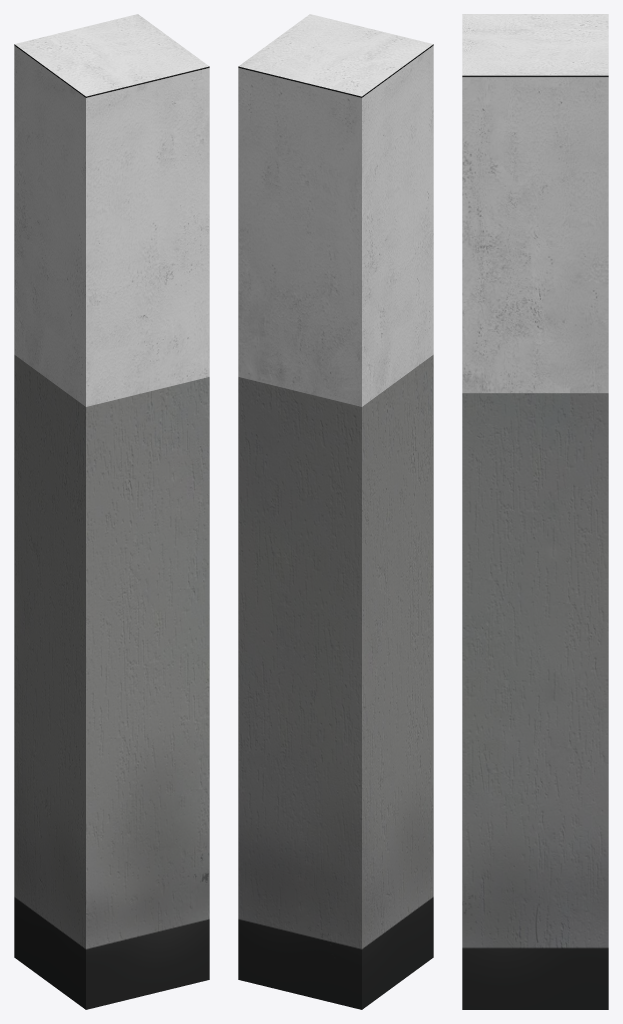
File: Column.FBX
3 views of the same model, side by side, from view 1: azimuth 30°, elevation 25°; view 2: azimuth 150°, elevation 25°; view 3: azimuth 270°, elevation 25° (orthographic). The views are drawn at different scales.
Visible parts, largest first — view 1: Column; view 2: Column; view 3: Column.
Boxes of the visible parts, x1,y1,x2,y2 form: Column: [14, 14, 209, 1009]; Column: [238, 14, 433, 1009]; Column: [462, 14, 608, 1009].
Bounding box in the file's own units: 52.4 × 370 × 52.63.
Materials: 1 (1 with a texture image).
